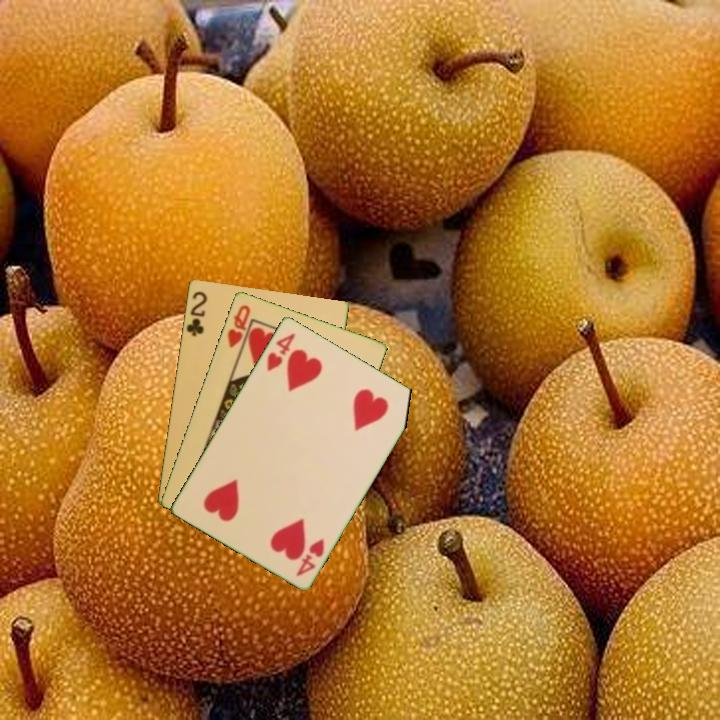2c: (183, 288, 210, 339)
4h: (263, 329, 298, 374), (292, 534, 327, 579)
Qh: (223, 301, 253, 350)
